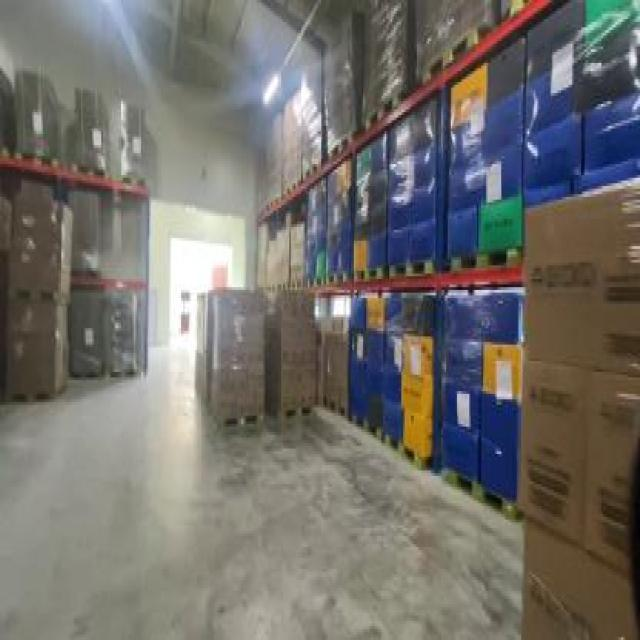box: (520, 172, 638, 638), (524, 0, 638, 208), (440, 290, 531, 528), (444, 63, 524, 265), (9, 175, 71, 405), (192, 274, 266, 438), (378, 287, 438, 468), (388, 112, 438, 279), (263, 284, 317, 418), (343, 292, 388, 438), (350, 134, 388, 282), (305, 167, 352, 282), (324, 14, 362, 145), (280, 57, 320, 178), (368, 3, 412, 109), (12, 66, 56, 164), (250, 216, 304, 295), (115, 96, 151, 186), (69, 284, 103, 378), (72, 90, 106, 181), (105, 290, 138, 377), (66, 192, 100, 276), (260, 118, 286, 205)
